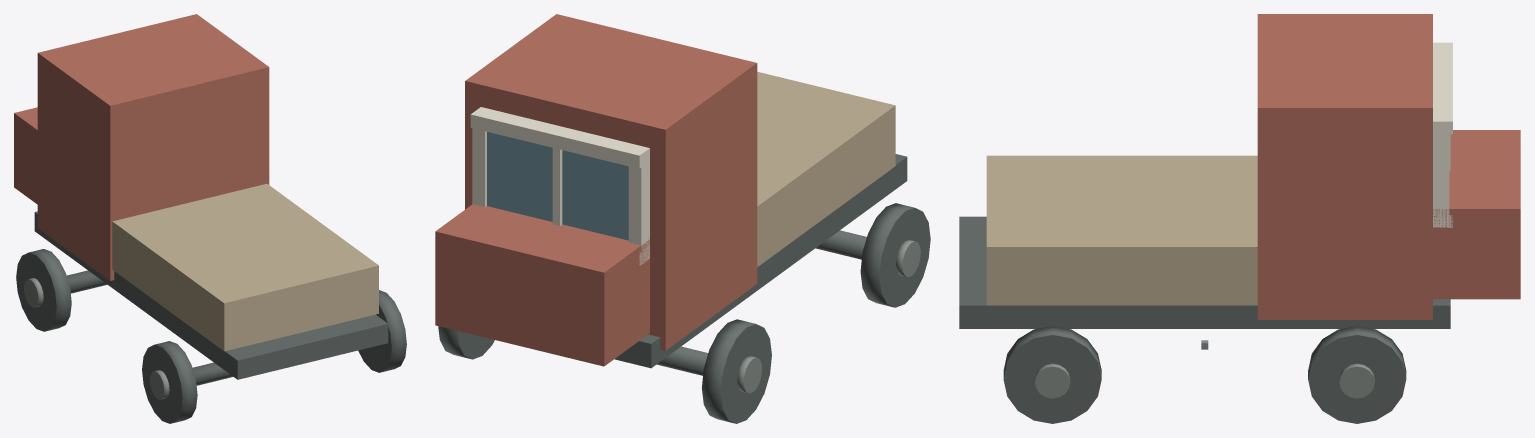
The model's file is tyne-truck_lod0.glb.
3 views of the same model, side by side, from view 1: azimuth 30°, elevation 25°; view 2: azimuth 150°, elevation 25°; view 3: azimuth 270°, elevation 25° (orthographic). The views are drawn at different scales.
Visible parts, largest first — view 1: RF_TruckCab, RF_CargoBed, RF_RoadChassis, RF_Wheel.001, RF_Wheel.003, RF_Bonnet, RF_Wheel.002, RF_Axle, RF_Axle.001, RF_WheelHub.001, RF_WheelHub.003; view 2: RF_TruckCab, RF_Bonnet, RF_CargoBed, RF_Window, RF_RoadChassis, RF_Wheel.001, RF_Wheel.003, RF_WindowSill, RF_WindowFrame.001, RF_WindowFrame, RF_Wheel, RF_Axle (+4 smaller); view 3: RF_TruckCab, RF_CargoBed, RF_Bonnet, RF_RoadChassis, RF_Wheel, RF_Wheel.002, RF_WindowSill, RF_WindowFrame, RF_WheelHub, RF_WheelHub.002.
Boxes of the visible parts, box(x1,y1,x2,y2) form: RF_TruckCab: box(37, 14, 269, 280); RF_CargoBed: box(112, 183, 378, 351); RF_RoadChassis: box(34, 211, 388, 379); RF_Wheel.001: box(142, 341, 197, 423); RF_Wheel.003: box(16, 249, 71, 331); RF_Bonnet: box(14, 107, 37, 204); RF_Wheel.002: box(358, 290, 406, 372); RF_Axle: box(67, 270, 107, 293); RF_Axle.001: box(192, 362, 232, 385); RF_WheelHub.001: box(149, 370, 169, 399); RF_WheelHub.003: box(24, 278, 43, 307); RF_TruckCab: box(465, 14, 757, 350); RF_Bonnet: box(435, 204, 649, 366); RF_CargoBed: box(757, 71, 895, 266); RF_Window: box(487, 132, 628, 240); RF_RoadChassis: box(614, 154, 907, 368); RF_Wheel.001: box(860, 203, 930, 307); RF_Wheel.003: box(702, 319, 771, 423); RF_WindowSill: box(470, 107, 649, 168); RF_WindowFrame.001: box(628, 145, 649, 264); RF_WindowFrame: box(472, 107, 492, 207); RF_Wheel: box(438, 326, 494, 359); RF_Axle: box(657, 346, 708, 375); RF_TruckCab: box(1257, 14, 1432, 319); RF_CargoBed: box(986, 155, 1257, 305); RF_Bonnet: box(1433, 130, 1520, 299); RF_RoadChassis: box(959, 216, 1450, 328); RF_Wheel: box(1308, 326, 1406, 423); RF_Wheel.002: box(1003, 326, 1101, 423); RF_WindowSill: box(1433, 42, 1452, 134); RF_WindowFrame: box(1433, 119, 1449, 227); RF_WheelHub: box(1339, 363, 1374, 398); RF_WheelHub.002: box(1035, 363, 1070, 398).
Bounding box in the file's own units: 2.8 × 2.8 × 4.8.
